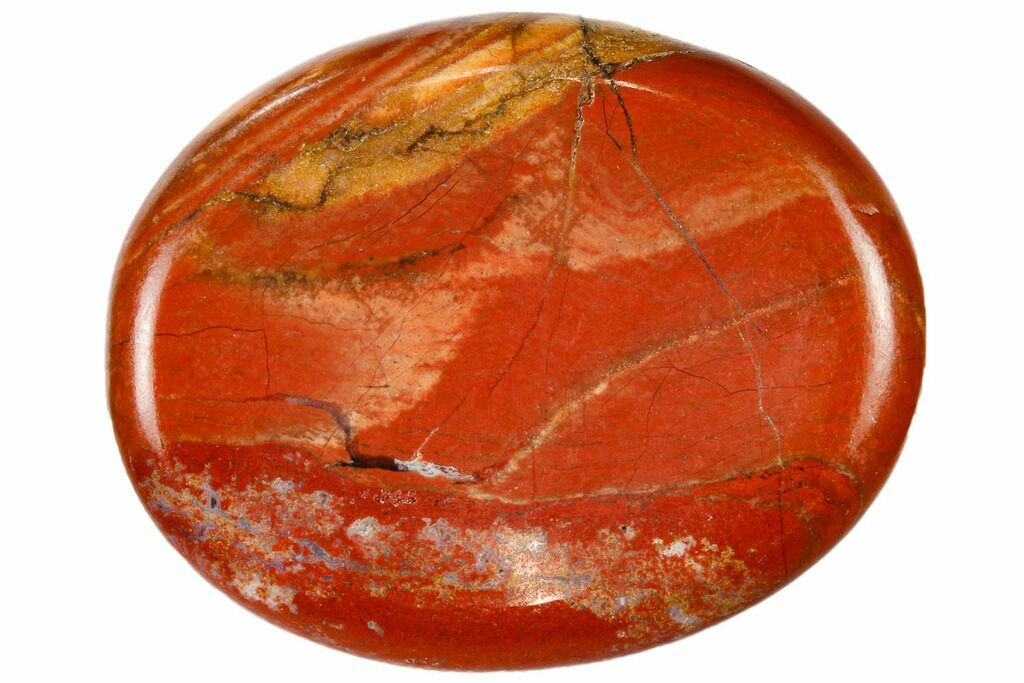Red_Jasper: (104, 12, 926, 672)
